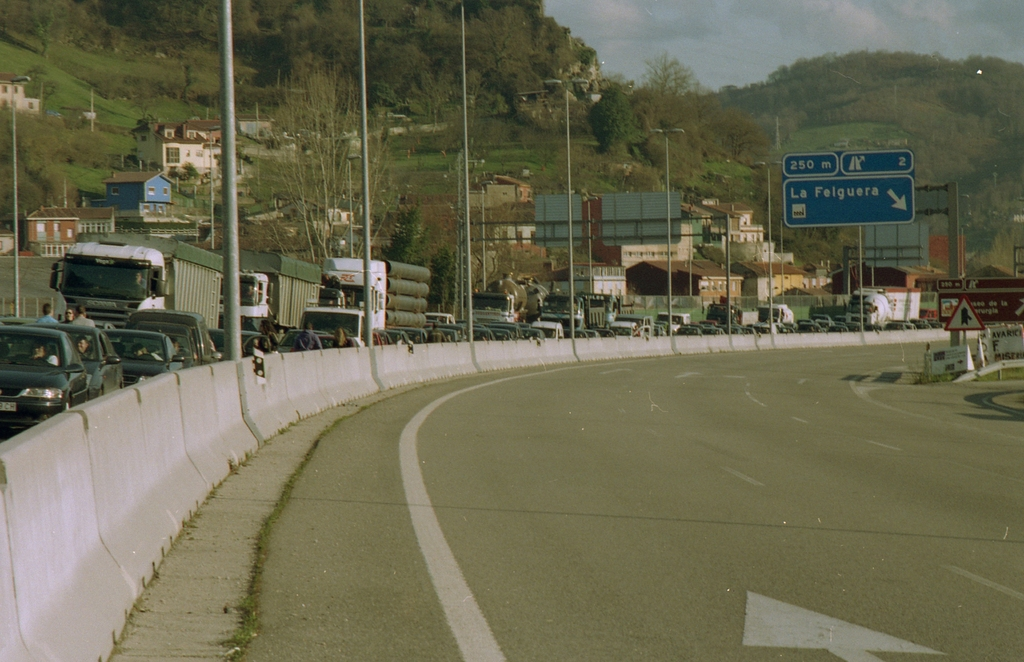Car: (0, 304, 940, 439), (0, 314, 113, 427)
